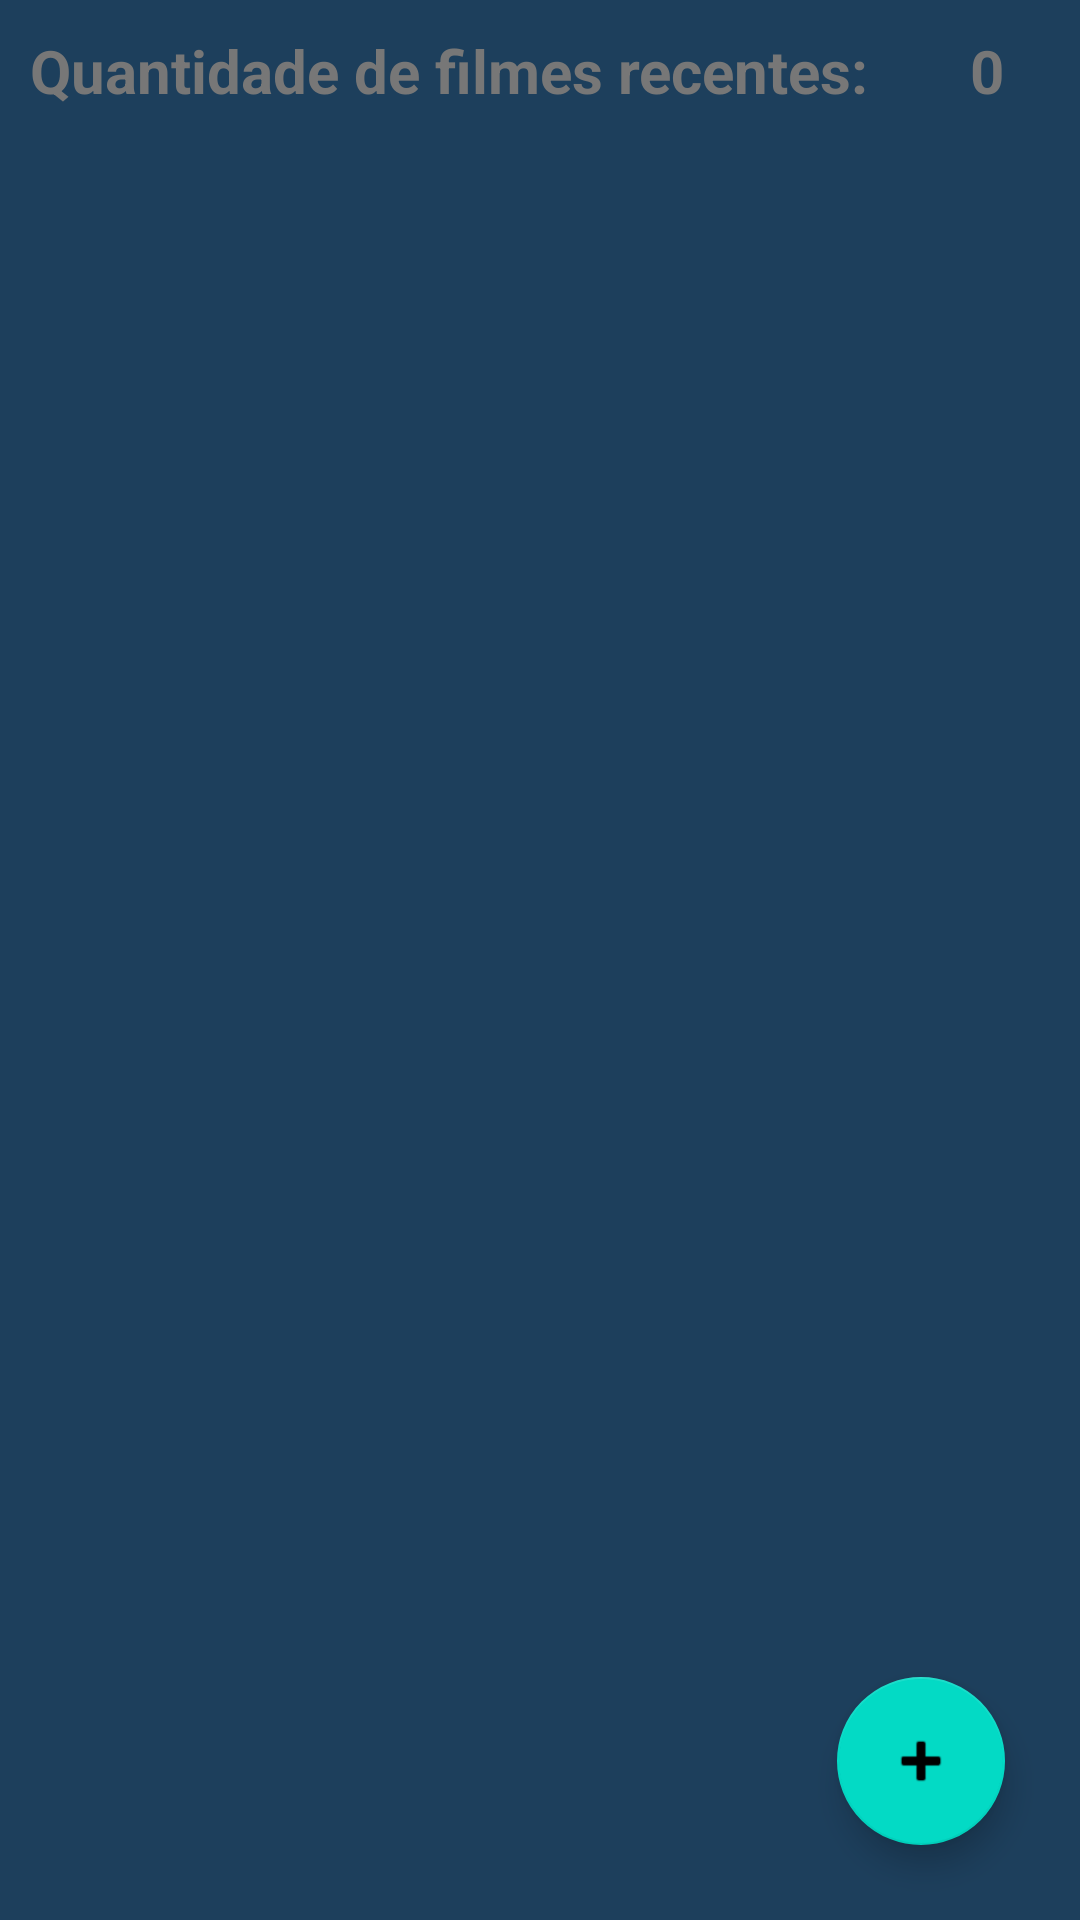

Icons on this 1080px×1920px Android screen, each with its box as Rect(x1, y1, x2, y2):
add: Rect(837, 1677, 1005, 1845)
